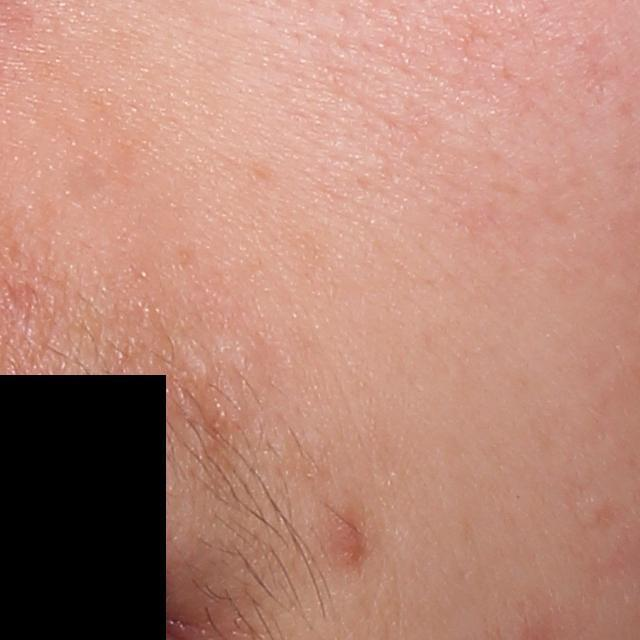papule: (328, 505, 368, 563)
